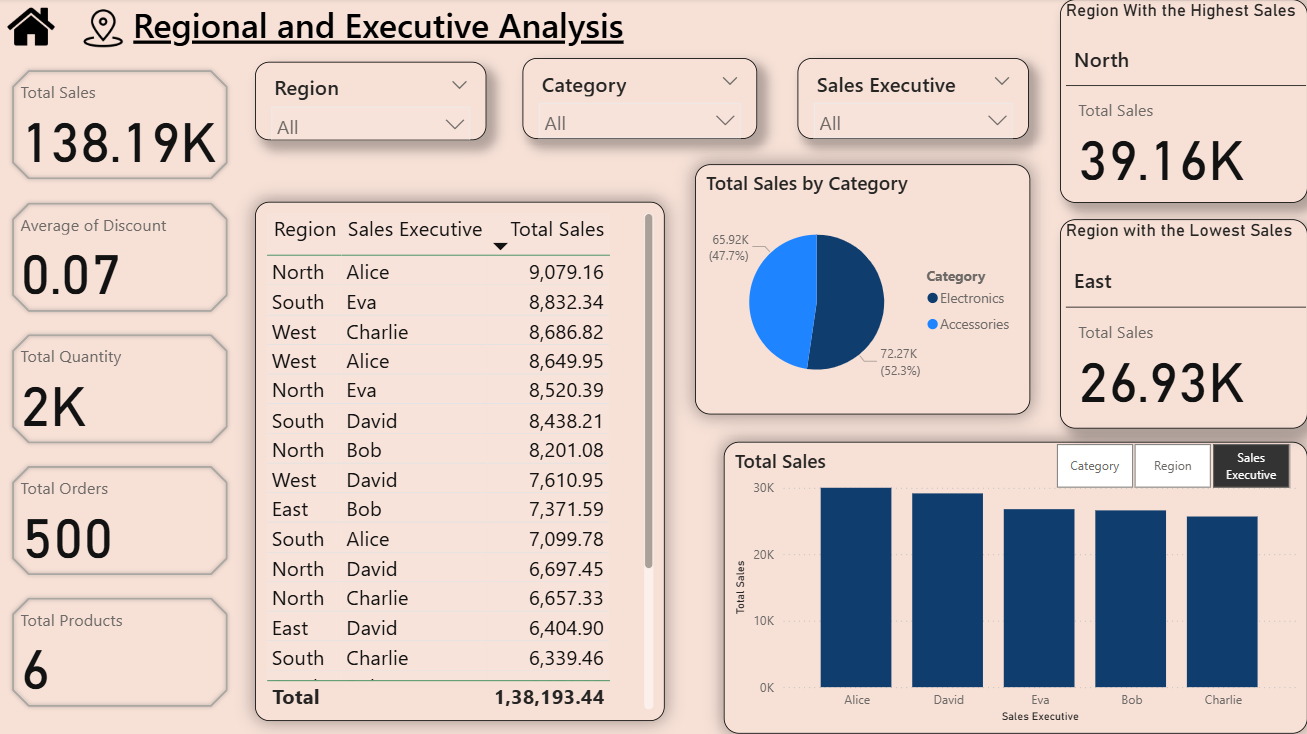

Layout of this report page (visuals, bound fields, positions):
{"tool":"powerbi","page":{"name":"Regional and Executive Analysis","canvas":[1280,720],"ordinal":1},"visuals":[{"type":"shape","box":[0,0,1279.7,50.5],"z":0},{"type":"slicer","fields":{"Values":["SalesData.Sales Executive"]},"box":[780.5,59.2,226.5,79.4],"z":1000},{"type":"slicer","fields":{"Values":["ProductDetails.Category"]},"box":[510.7,59.2,229.4,79.4],"z":2000},{"type":"slicer","fields":{"Values":["SalesData.Region"]},"box":[249.6,62,226.5,76.5],"z":3000},{"type":"cardVisual","fields":{"Data":["SalesData.#Total_sales_revenue","SalesData.Discount","SalesData.Quantity","SalesData.#Total_orders","SalesData.#Unique_product_sold"]},"box":[0,59.2,235.2,647.8],"z":4000},{"type":"cardVisual","title":"Region With the Highest Sales","fields":{"Rows":["SalesData.Region"],"Data":["SalesData.#Total_sales_revenue"]},"box":[1037.3,1.4,242.4,199.1],"z":5000},{"type":"cardVisual","title":"Region with the Lowest Sales","fields":{"Rows":["SalesData.Region"],"Data":["SalesData.#Total_sales_revenue"]},"box":[1037.3,216.4,242.4,204.9],"z":6000},{"type":"clusteredColumnChart","title":"Total Sales","fields":{"Category":["SalesData.Sales Executive"],"Y":["SalesData.#Total_sales_revenue"]},"box":[708.4,434.3,571.3,285.7],"z":7000},{"type":"slicer","fields":{"Values":["View By.View By"]},"box":[1007,434.3,272.7,51.9],"z":8000},{"type":"tableEx","fields":{"Values":["SalesData.Region","SalesData.Sales Executive","SalesData.#Total_sales_revenue"]},"box":[249.6,199.1,401.1,507.9],"z":9000},{"type":"pieChart","fields":{"Category":["ProductDetails.Category"],"Y":["SalesData.#Total_sales_revenue"]},"box":[679.9,162.6,327.7,244.6],"z":10000},{"type":"image","box":[72.1,0,57.7,59.2],"z":12000},{"type":"image","box":[0,0,61.1,56.3],"z":12001}]}

Visuals, with their boxes in screenshot pixels (x1, y1, x2, y2), scaled from the page's 1280x720 canvas onto the 1307x734 screenshot:
shape: [0,0,1306,51]
slicer - SalesData.Sales Executive: [797,60,1028,141]
slicer - ProductDetails.Category: [521,60,756,141]
slicer - SalesData.Region: [255,63,486,141]
cardVisual - SalesData.#Total_sales_revenue x SalesData.Discount: [0,60,240,721]
"Region With the Highest Sales" cardVisual: [1059,1,1306,204]
"Region with the Lowest Sales" cardVisual: [1059,221,1306,429]
"Total Sales" clusteredColumnChart: [723,443,1306,733]
slicer - View By.View By: [1028,443,1306,496]
tableEx - SalesData.Region x SalesData.Sales Executive: [255,203,664,721]
pieChart - ProductDetails.Category x SalesData.#Total_sales_revenue: [694,166,1029,415]
image: [74,0,133,60]
image: [0,0,62,57]
